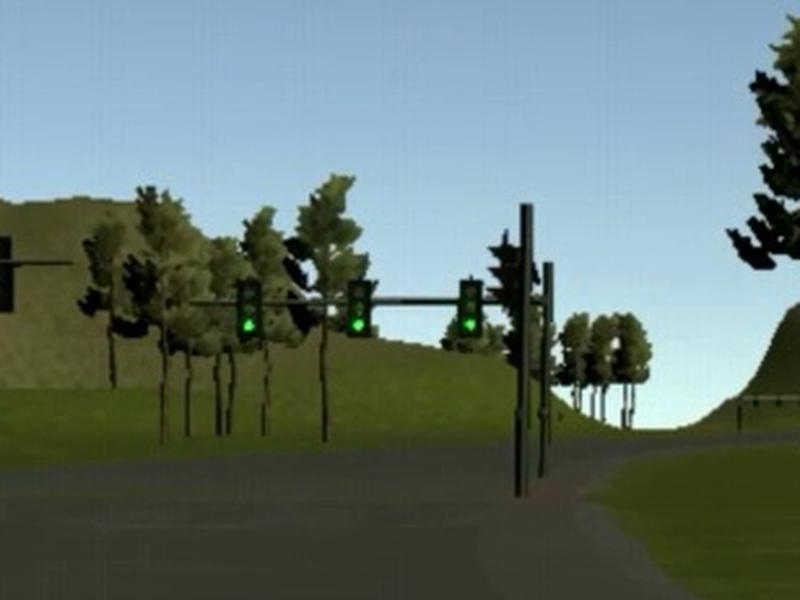Green: (235, 278, 261, 339), (459, 279, 483, 336), (348, 279, 370, 338)
